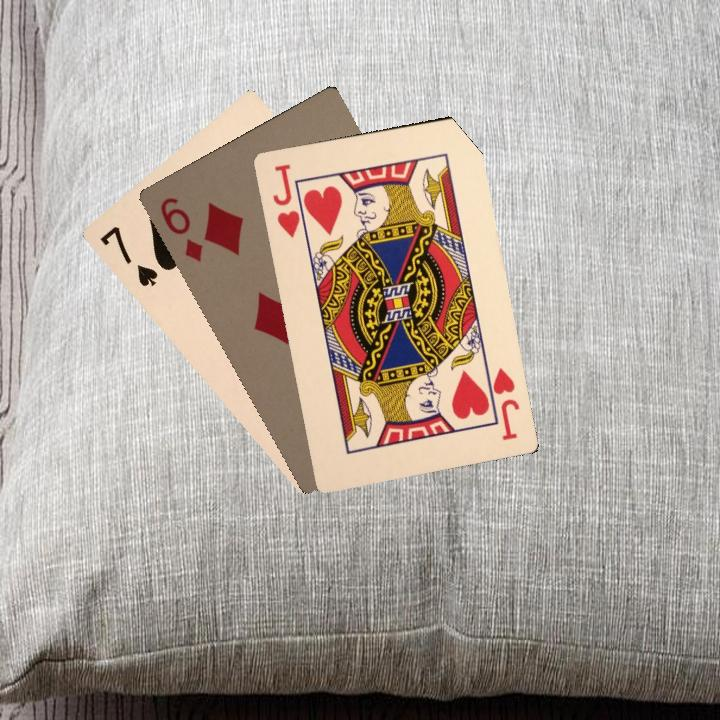6d: (156, 193, 206, 265)
7s: (96, 221, 160, 289)
Jh: (268, 160, 310, 241), (481, 364, 522, 443)
